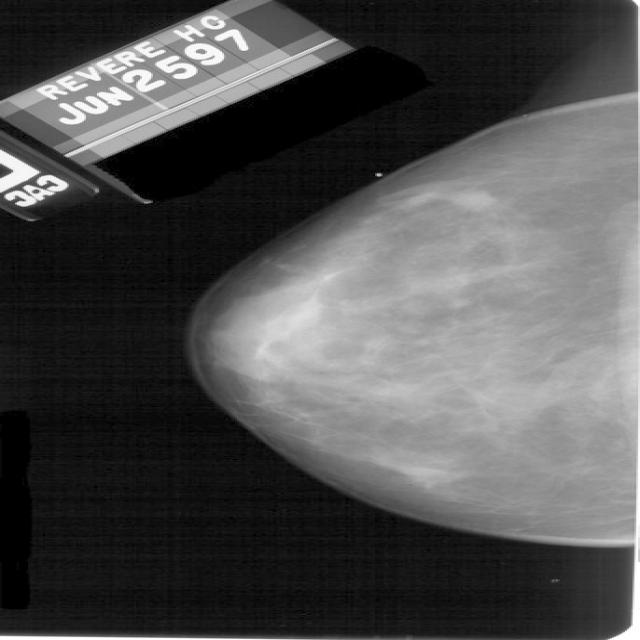tumour: (444, 188, 496, 212)
